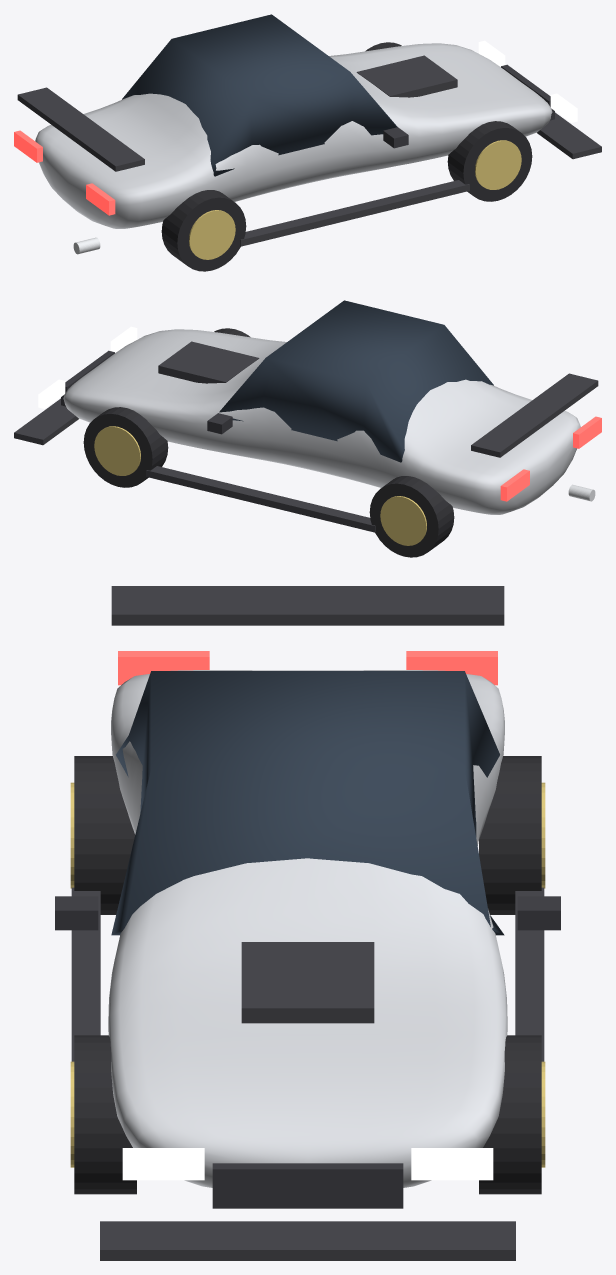
File: car_bozkir200.glb
The picture shows the model from 3 angles, top to bottom: view 1: azimuth 30°, elevation 25°; view 2: azimuth 150°, elevation 25°; view 3: azimuth 270°, elevation 25°; orthographic projection. The views are drawn at different scales.
Parts seen in each view (by area): view 1: CarBody, CarGlass, Mod_Wing, Tire_-1.3701999999999999_-1, Tire_1.3701999999999999_-1, Mod_Skirt_-1, Mod_Hood, Rim_1.3701999999999999_-1, Rim_-1.3701999999999999_-1, Mod_Splitter, TailL_-1, TailL_1 (+4 smaller); view 2: CarBody, CarGlass, Mod_Wing, Tire_-1.3701999999999999_1, Tire_1.3701999999999999_1, Mod_Skirt_1, Mod_Hood, Rim_1.3701999999999999_1, Rim_-1.3701999999999999_1, Mod_Splitter, TailL_1, TailL_-1 (+4 smaller); view 3: CarBody, CarGlass, Mod_Splitter, Mod_Wing, Mod_Hood, Grille, Tire_-1.3701999999999999_1, Tire_-1.3701999999999999_-1, Tire_1.3701999999999999_1, Tire_1.3701999999999999_-1, Mod_Skirt_1, Mod_Skirt_-1 (+6 smaller).
Boxes of the visible parts, left/top/right/bottom form: CarBody: left=35, top=43, right=552, bottom=228; CarGlass: left=122, top=14, right=397, bottom=176; Mod_Wing: left=17, top=87, right=144, bottom=171; Tire_-1.3701999999999999_-1: left=161, top=190, right=246, bottom=271; Tire_1.3701999999999999_-1: left=447, top=121, right=532, bottom=201; Mod_Skirt_-1: left=240, top=180, right=469, bottom=246; Mod_Hood: left=356, top=55, right=457, bottom=97; Rim_1.3701999999999999_-1: left=475, top=140, right=521, bottom=189; Rim_-1.3701999999999999_-1: left=189, top=210, right=235, bottom=259; Mod_Splitter: left=537, top=112, right=601, bottom=159; TailL_-1: left=86, top=183, right=115, bottom=215; TailL_1: left=14, top=130, right=42, bottom=162; CarBody: left=63, top=329, right=580, bottom=514; CarGlass: left=219, top=300, right=493, bottom=462; Mod_Wing: left=471, top=373, right=598, bottom=457; Tire_-1.3701999999999999_1: left=369, top=476, right=454, bottom=557; Tire_1.3701999999999999_1: left=83, top=407, right=168, bottom=487; Mod_Skirt_1: left=146, top=466, right=375, bottom=532; Mod_Hood: left=158, top=341, right=259, bottom=383; Rim_1.3701999999999999_1: left=94, top=426, right=140, bottom=475; Rim_-1.3701999999999999_1: left=380, top=496, right=426, bottom=545; Mod_Splitter: left=14, top=398, right=78, bottom=445; TailL_1: left=500, top=469, right=529, bottom=501; TailL_-1: left=573, top=416, right=601, bottom=448; CarBody: left=108, top=670, right=507, bottom=1187; CarGlass: left=111, top=671, right=504, bottom=935; Mod_Splitter: left=100, top=1221, right=515, bottom=1260; Mod_Wing: left=111, top=586, right=504, bottom=625; Mod_Hood: left=241, top=942, right=374, bottom=1023; Grille: left=212, top=1163, right=403, bottom=1208; Tire_-1.3701999999999999_1: left=479, top=756, right=541, bottom=914; Tire_-1.3701999999999999_-1: left=74, top=756, right=135, bottom=914; Tire_1.3701999999999999_1: left=479, top=1035, right=541, bottom=1194; Tire_1.3701999999999999_-1: left=74, top=1035, right=136, bottom=1194; Mod_Skirt_1: left=515, top=887, right=544, bottom=1061; Mod_Skirt_-1: left=71, top=887, right=100, bottom=1061.
Bounding box in the file's own units: 4.79 × 1.34 × 2.1.
